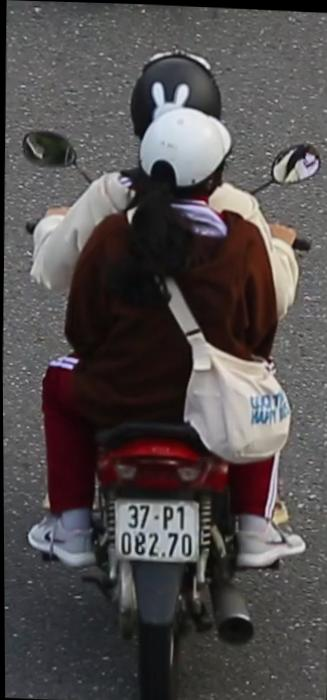LP: (110, 490, 203, 569)
helmet: (134, 100, 237, 217), (123, 39, 232, 127)
